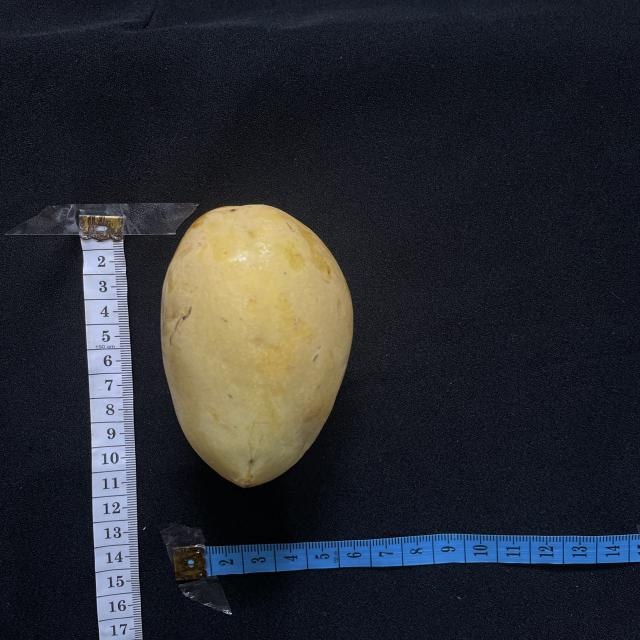Ripe: (161, 205, 353, 487)
